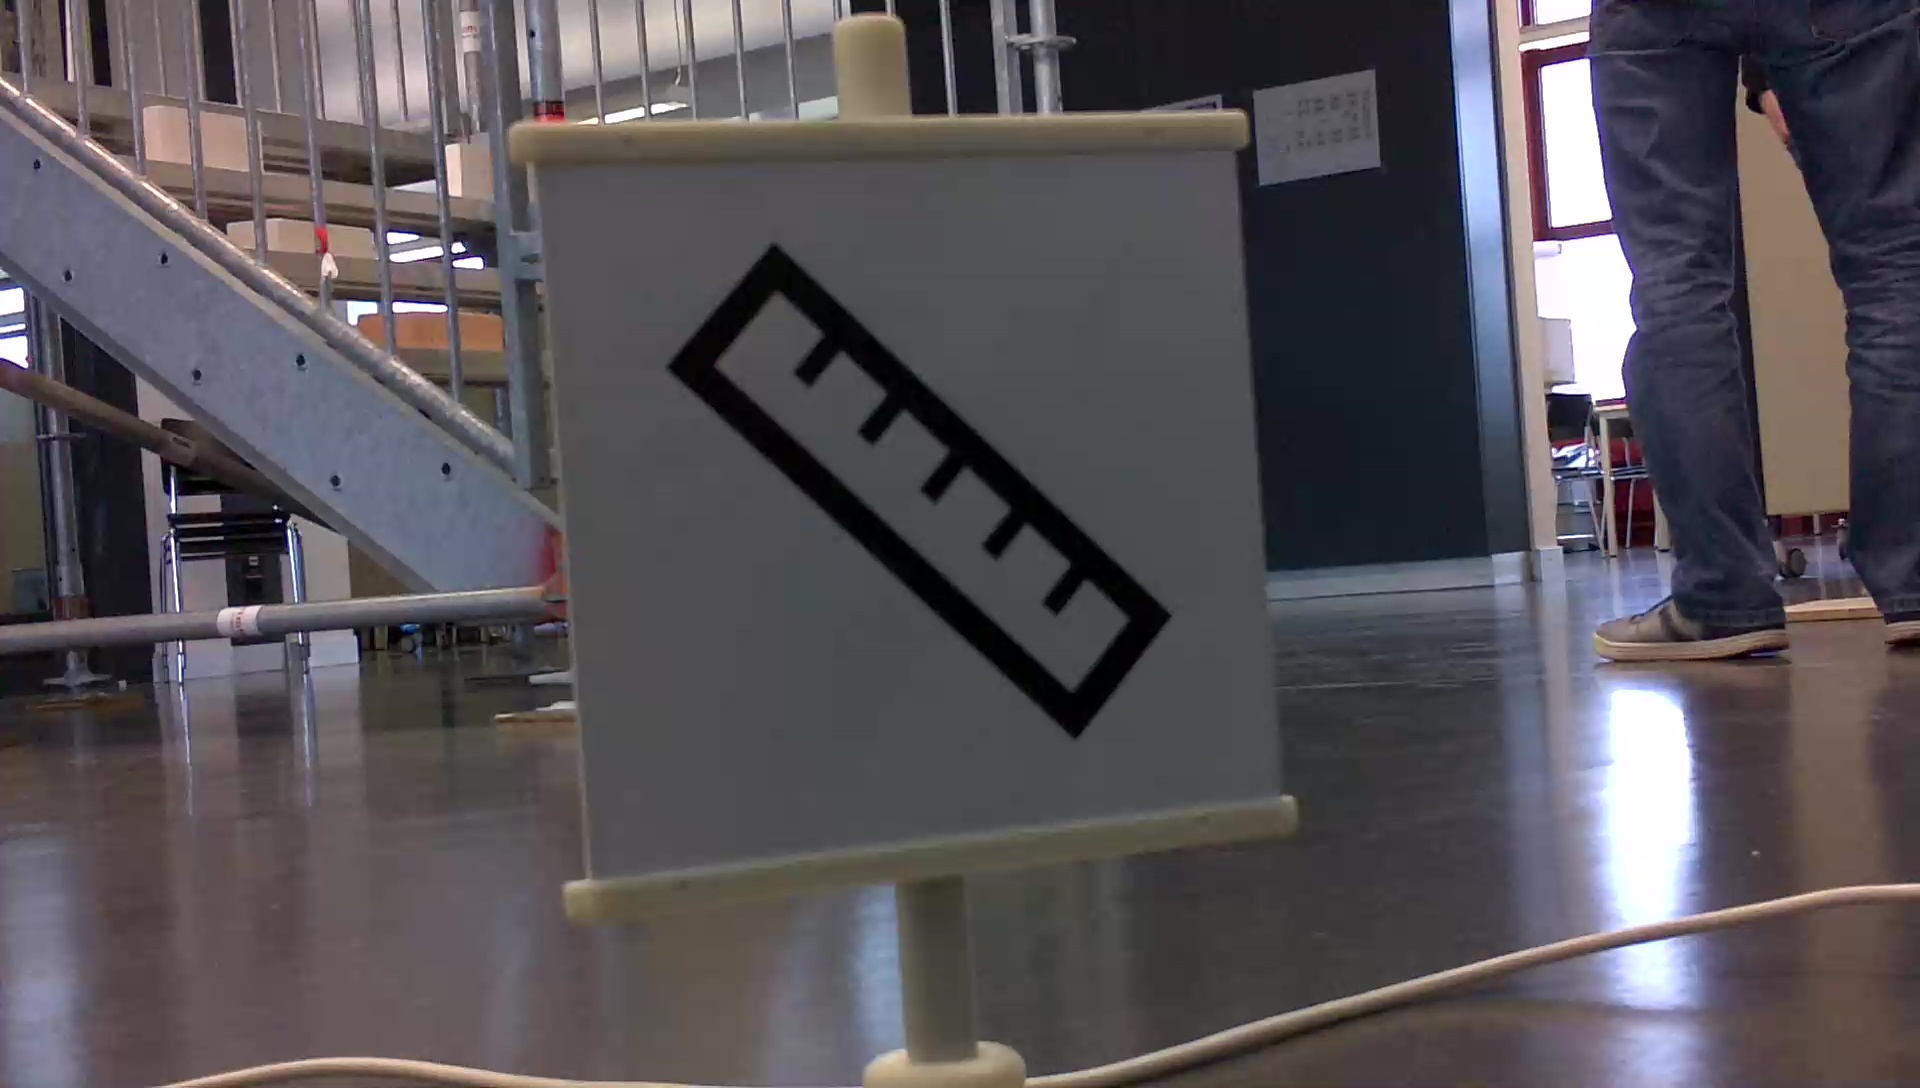ruler: (651, 231, 1171, 745)
